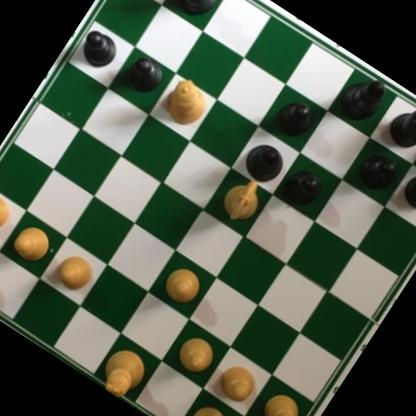black-bishop: (329, 60, 396, 130), (236, 135, 292, 192)
black-king: (161, 0, 235, 26)
black-knight: (381, 93, 416, 159)
black-pawn: (350, 143, 405, 198), (269, 92, 321, 146), (277, 162, 329, 214), (72, 24, 124, 75), (120, 51, 169, 100), (397, 165, 416, 219)
black-rook: (415, 115, 416, 186)
white-bishop: (118, 0, 186, 0)
white-king: (92, 339, 154, 404)
white-knight: (215, 165, 272, 225), (177, 397, 236, 416)
white-pawn: (154, 258, 210, 314), (172, 325, 227, 382), (4, 216, 59, 270), (210, 357, 263, 410), (48, 246, 100, 297), (253, 384, 308, 416), (0, 182, 20, 238)
white-queen: (158, 73, 216, 132)
white-rook: (219, 416, 289, 416)
